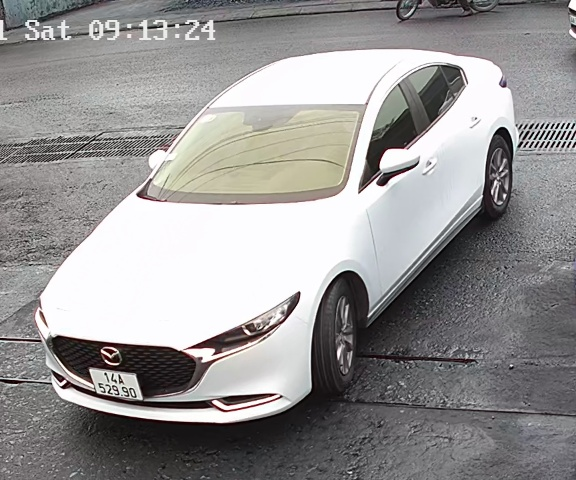vehicle plate: (86, 364, 152, 405)
